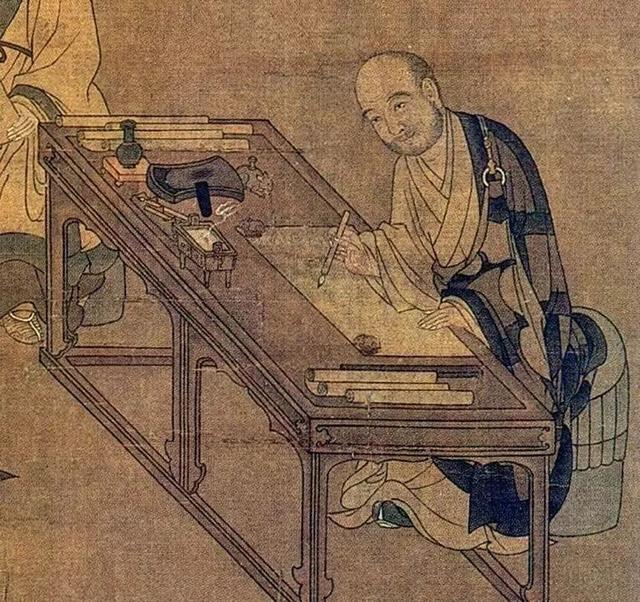decoration: (242, 215, 466, 360), (297, 363, 489, 416), (149, 198, 238, 296), (129, 155, 264, 199), (102, 114, 151, 183), (321, 210, 347, 293), (351, 325, 392, 373)
man: (5, 1, 123, 341)
monk: (327, 46, 584, 526)
table: (33, 109, 573, 602)
